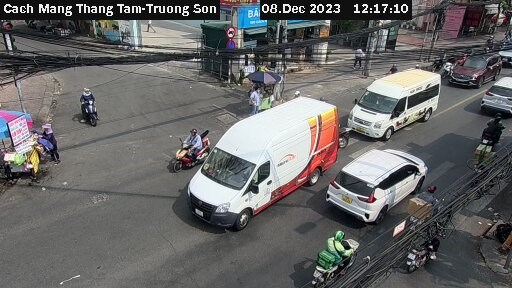car: (187, 97, 335, 233), (331, 143, 415, 225), (349, 66, 437, 131), (453, 48, 495, 83), (480, 73, 512, 114), (496, 42, 512, 63)
motorbike: (299, 229, 353, 288), (71, 87, 117, 133), (159, 128, 207, 171), (466, 116, 511, 160), (399, 227, 436, 278), (408, 187, 448, 218)
